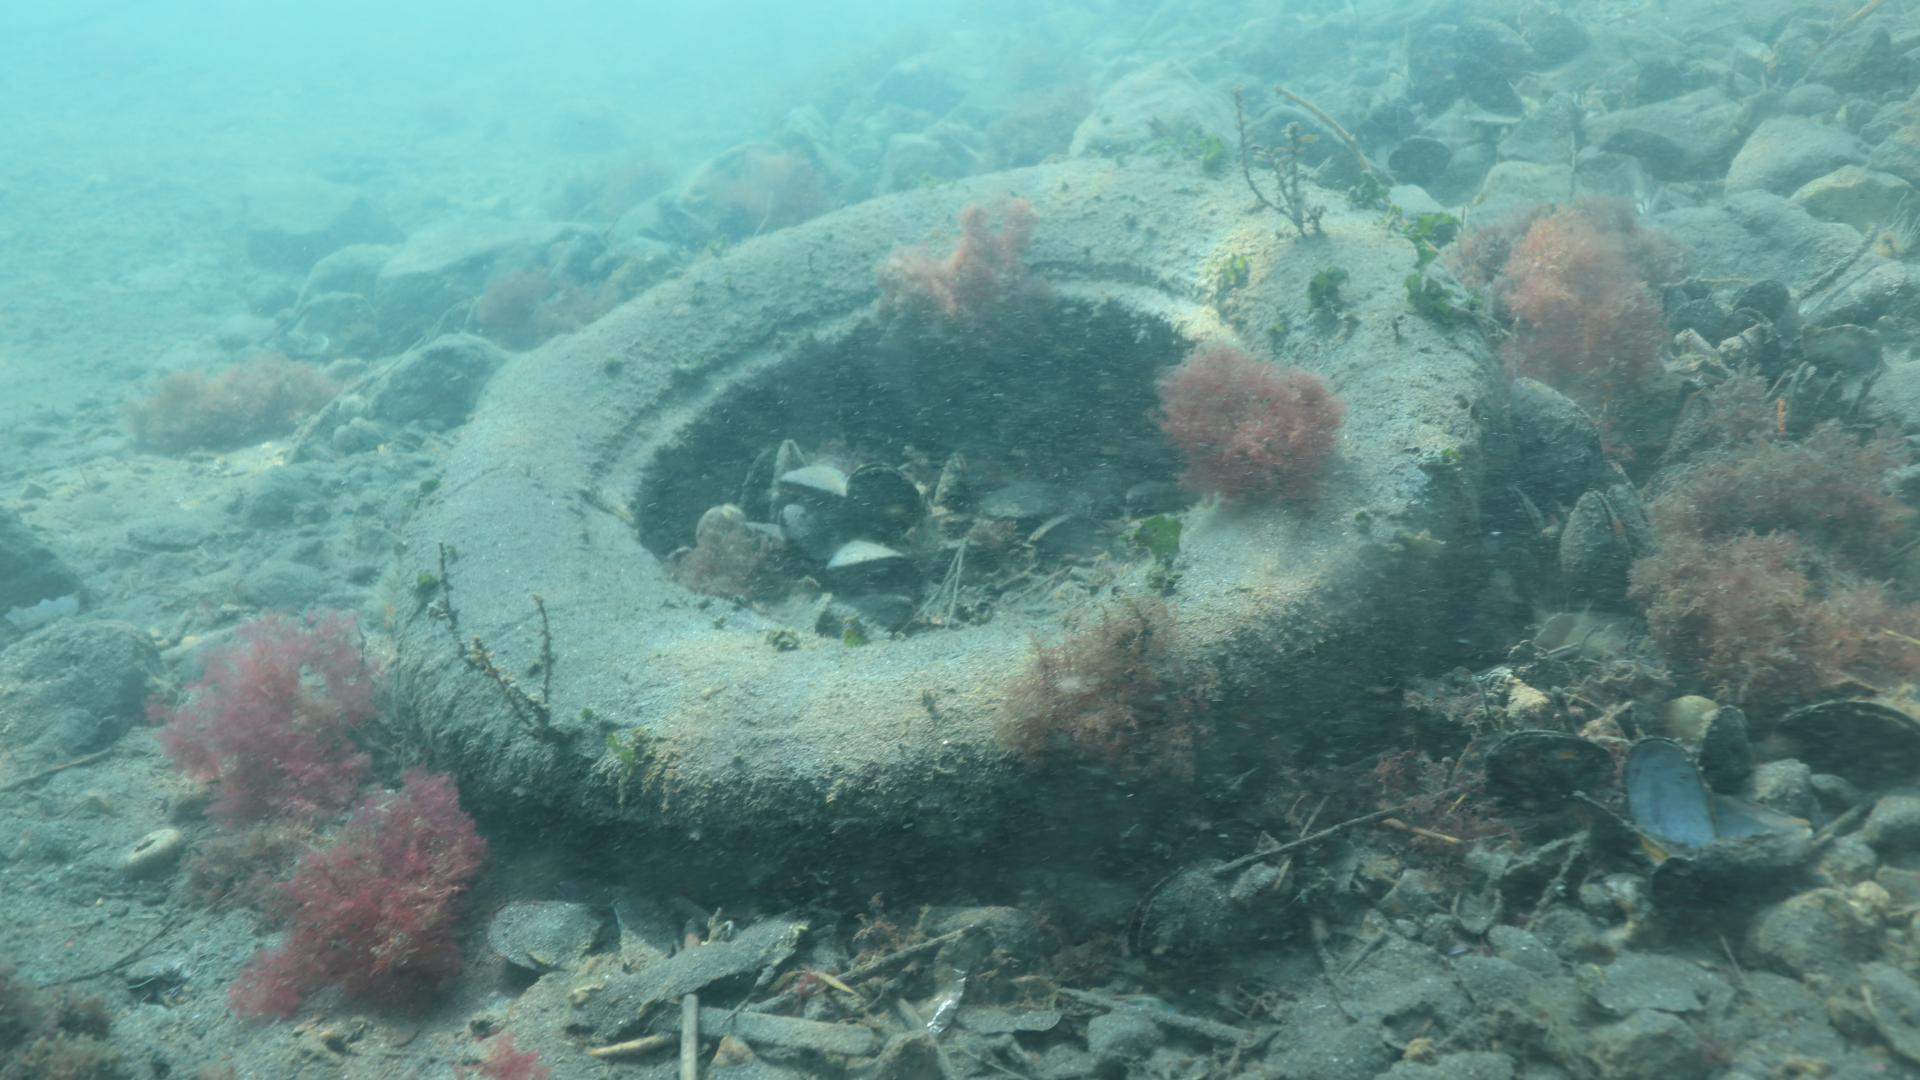tire: (394, 156, 1503, 916)
